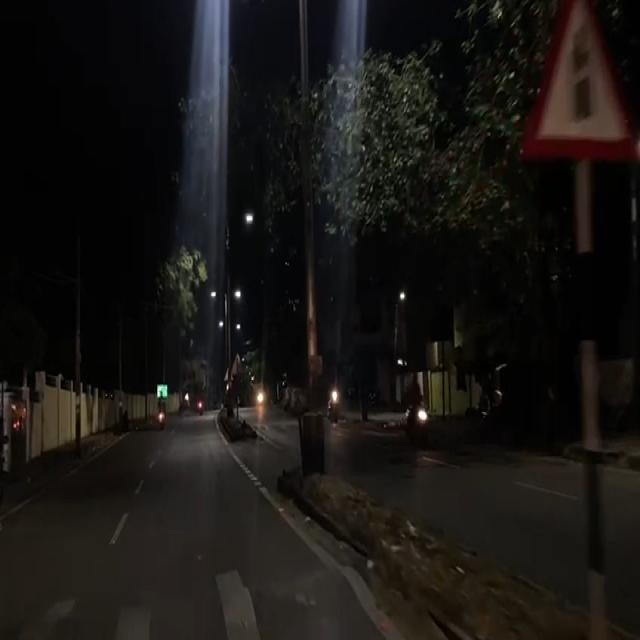bien_nguy_hiem: (519, 3, 638, 165)
